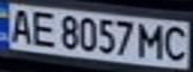0: (75, 15, 100, 53)
5: (97, 16, 118, 55)
7: (112, 18, 139, 56)
8: (54, 12, 81, 52)
A: (3, 6, 36, 44)
C: (160, 23, 193, 62)
E: (27, 8, 60, 47)
M: (139, 20, 169, 60)
